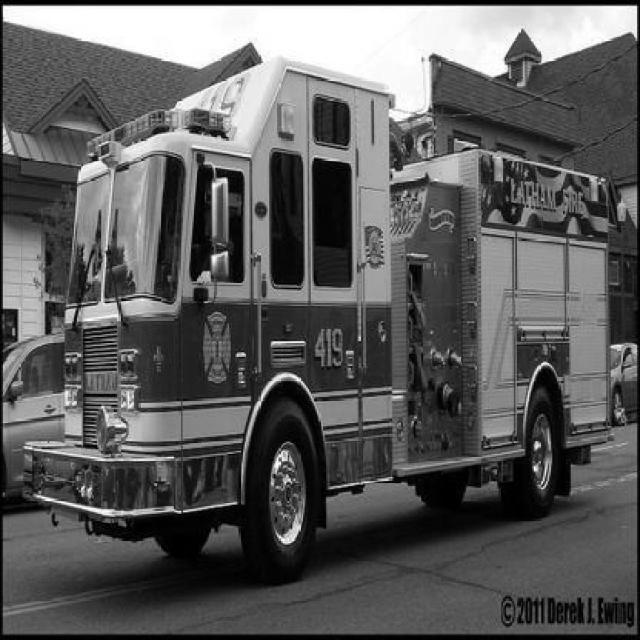Fire Truck: (23, 59, 613, 588)
